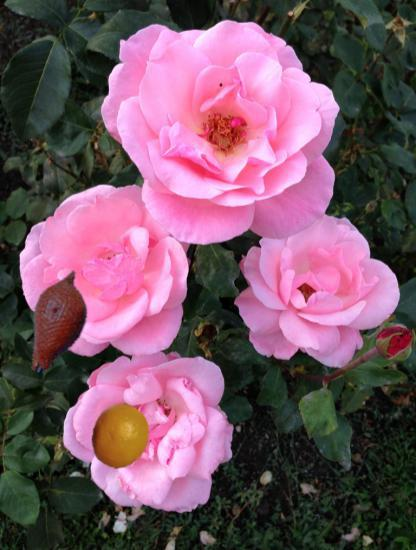Lemon: (87, 402, 154, 469)
Salak: (4, 267, 113, 376)
